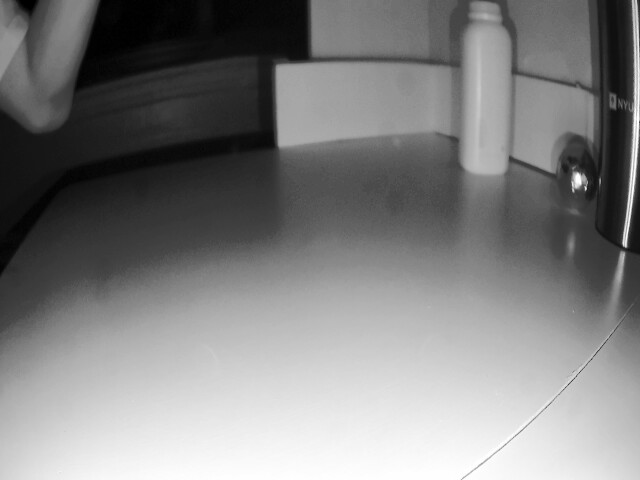black: (557, 141, 605, 212)
